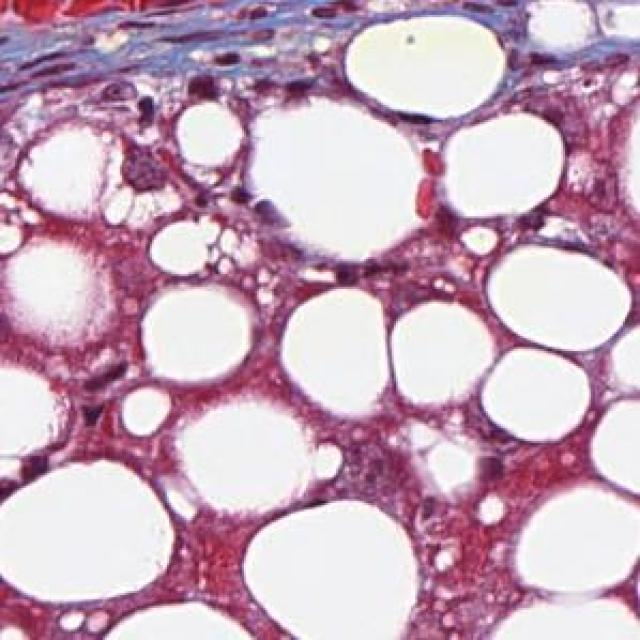ballooning: (13, 111, 190, 238), (9, 231, 130, 360)
